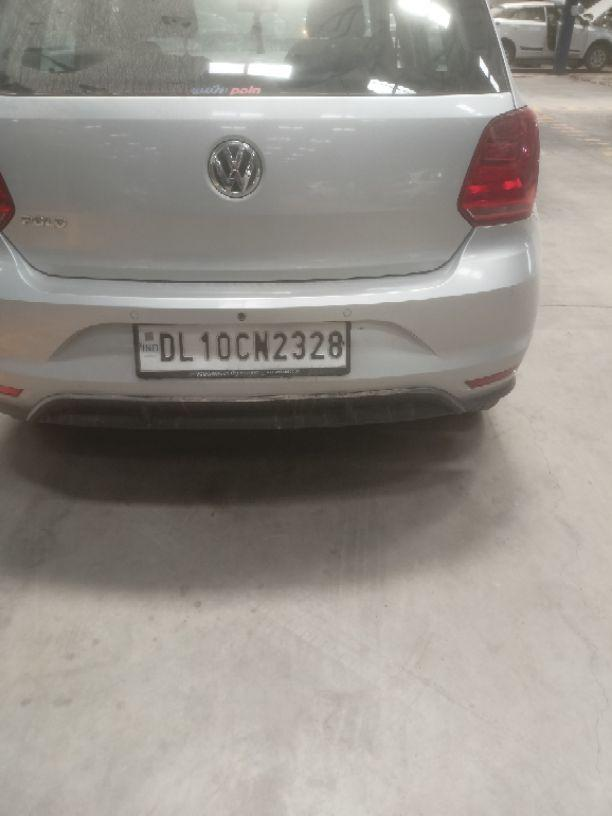license_plate: (132, 319, 351, 378)
